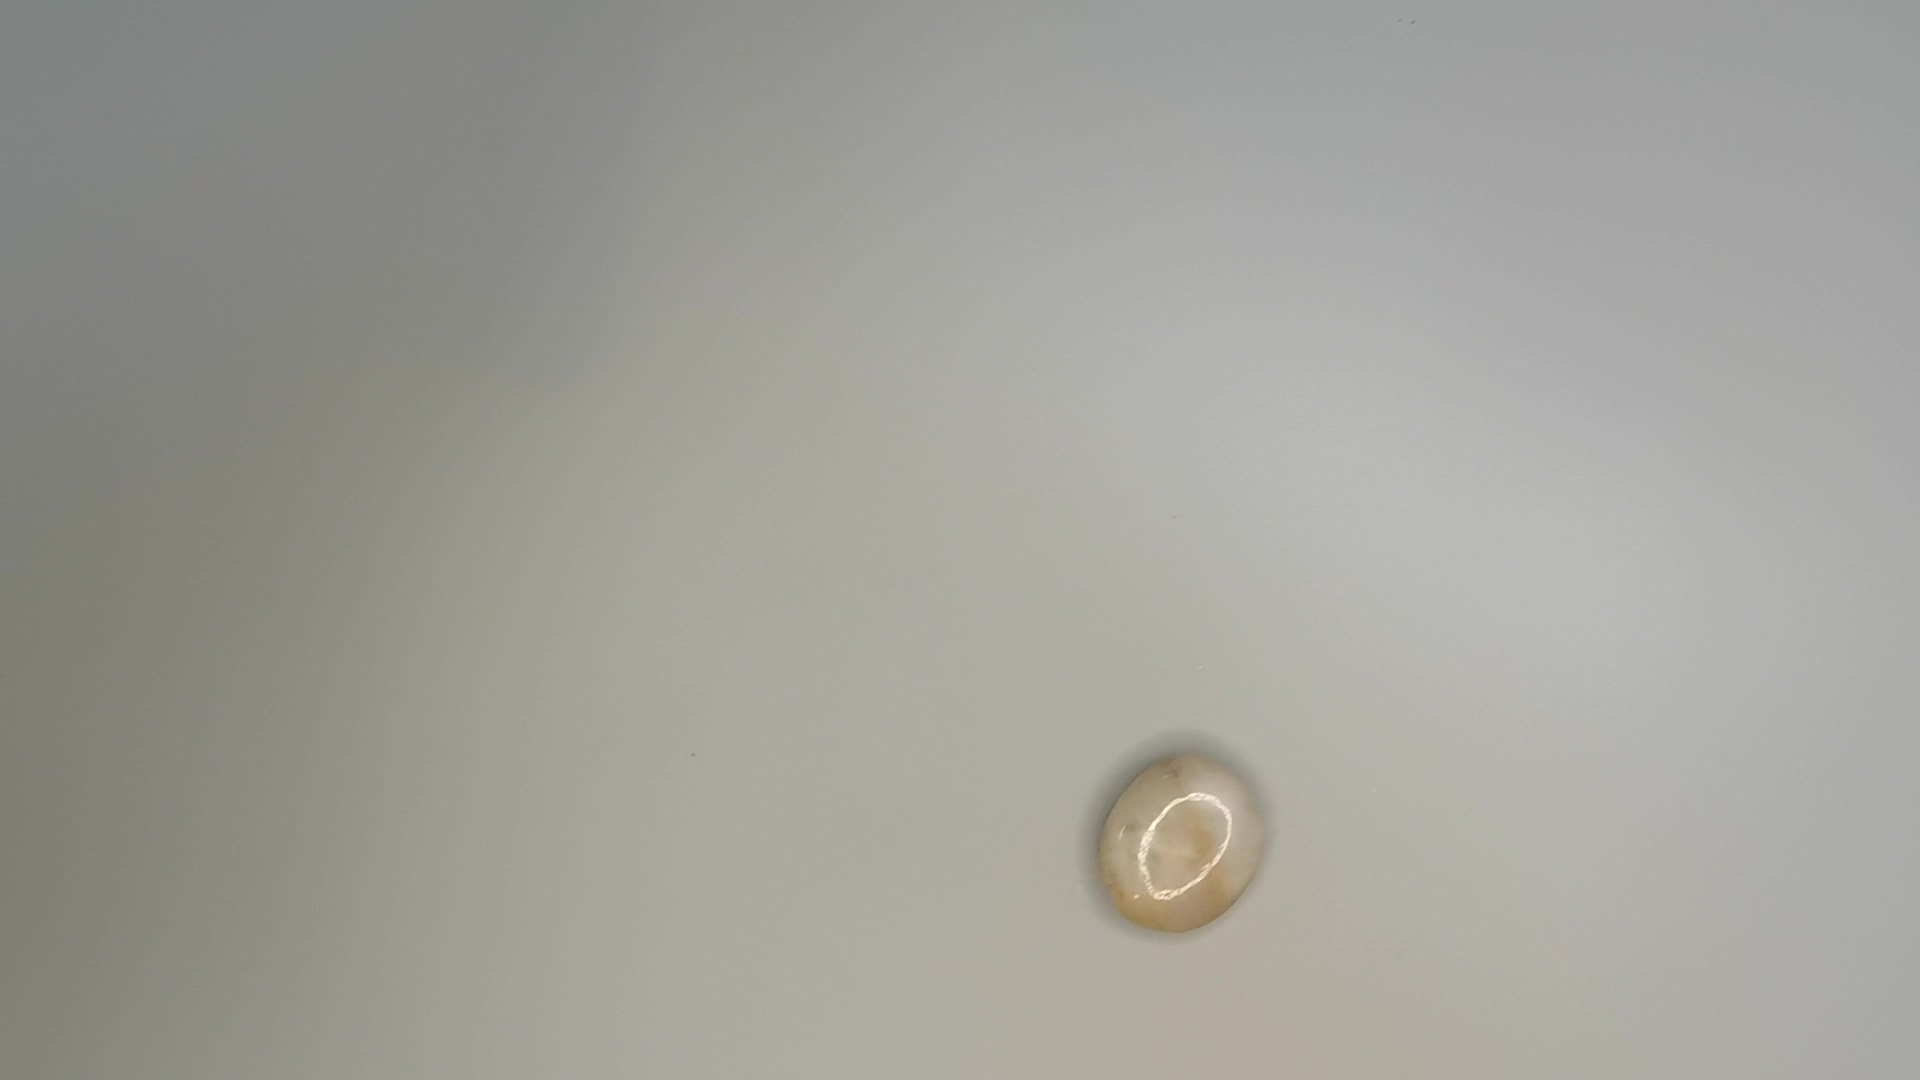ceramic: (1091, 746, 1263, 942)
